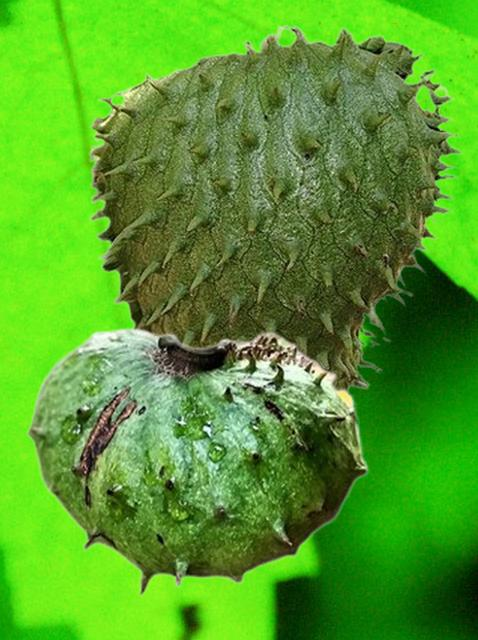guyabano: (88, 23, 463, 391), (26, 327, 368, 596)
